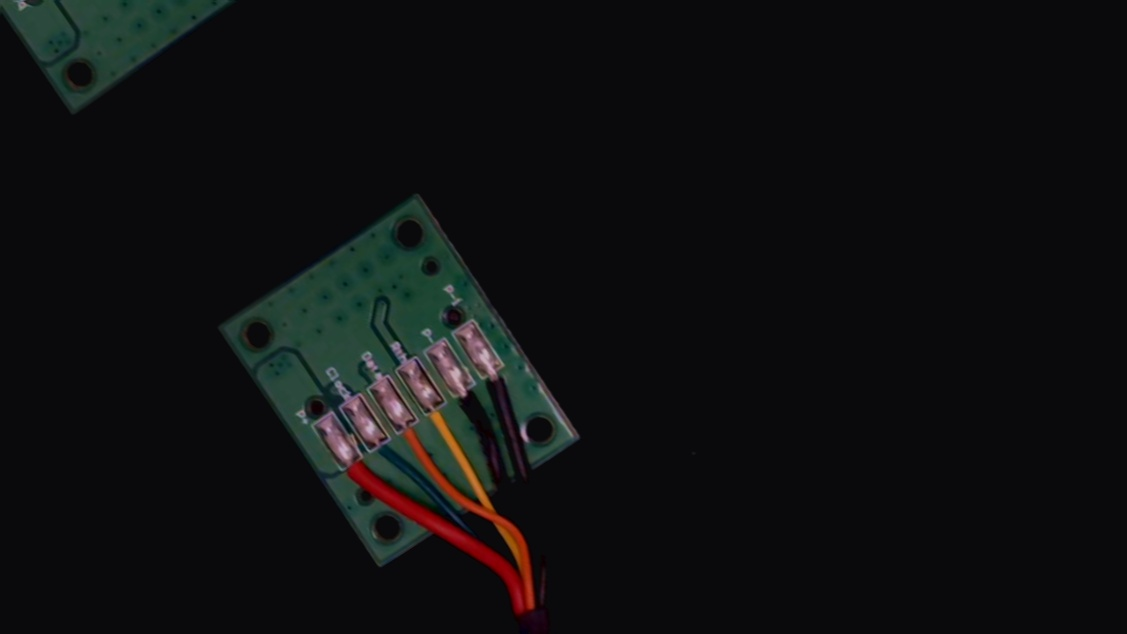Black: (441, 369, 502, 439)
Black1: (471, 347, 528, 412)
Green: (359, 423, 413, 484)
Orange: (383, 404, 439, 466)
Red: (331, 443, 386, 505)
Yellow: (413, 386, 475, 457)
